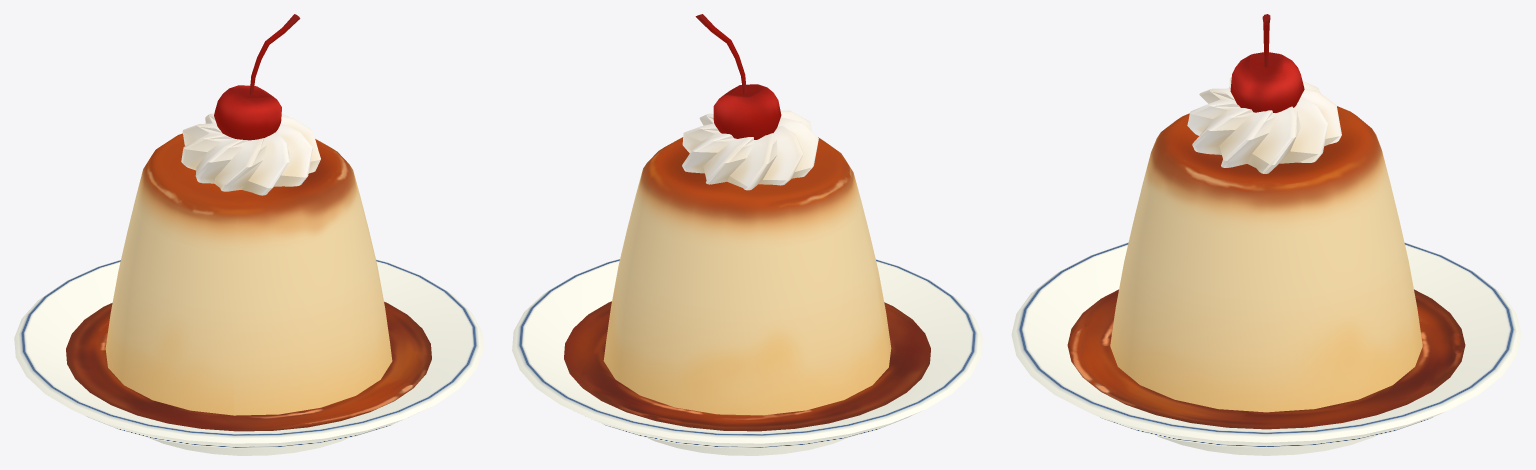
The model's file is simple_pudding_-_fbx.glb.
3 renders of one model, left to right at view 1: azimuth 30°, elevation 25°; view 2: azimuth 150°, elevation 25°; view 3: azimuth 270°, elevation 25°, orthographic. The views are drawn at different scales.
Parts seen in each view (by area): view 1: Pudding, Plate, Cream, Cherry; view 2: Pudding, Plate, Cream, Cherry; view 3: Pudding, Plate, Cream, Cherry.
Part boxes in pixels (x1,y1,x2,y2): Pudding: (105,133,392,415); Plate: (14,259,483,455); Cream: (181,113,320,195); Cherry: (214,14,300,140); Pudding: (603,137,891,415); Plate: (512,259,982,455); Cream: (682,110,818,190); Cherry: (695,14,781,139); Pudding: (1110,106,1422,412); Plate: (1011,242,1521,455); Cream: (1187,77,1341,173); Cherry: (1230,14,1304,112).
Bounding box in the file's own units: 0.0335 × 0.0291 × 0.0335.
1 material, 1 textured.
